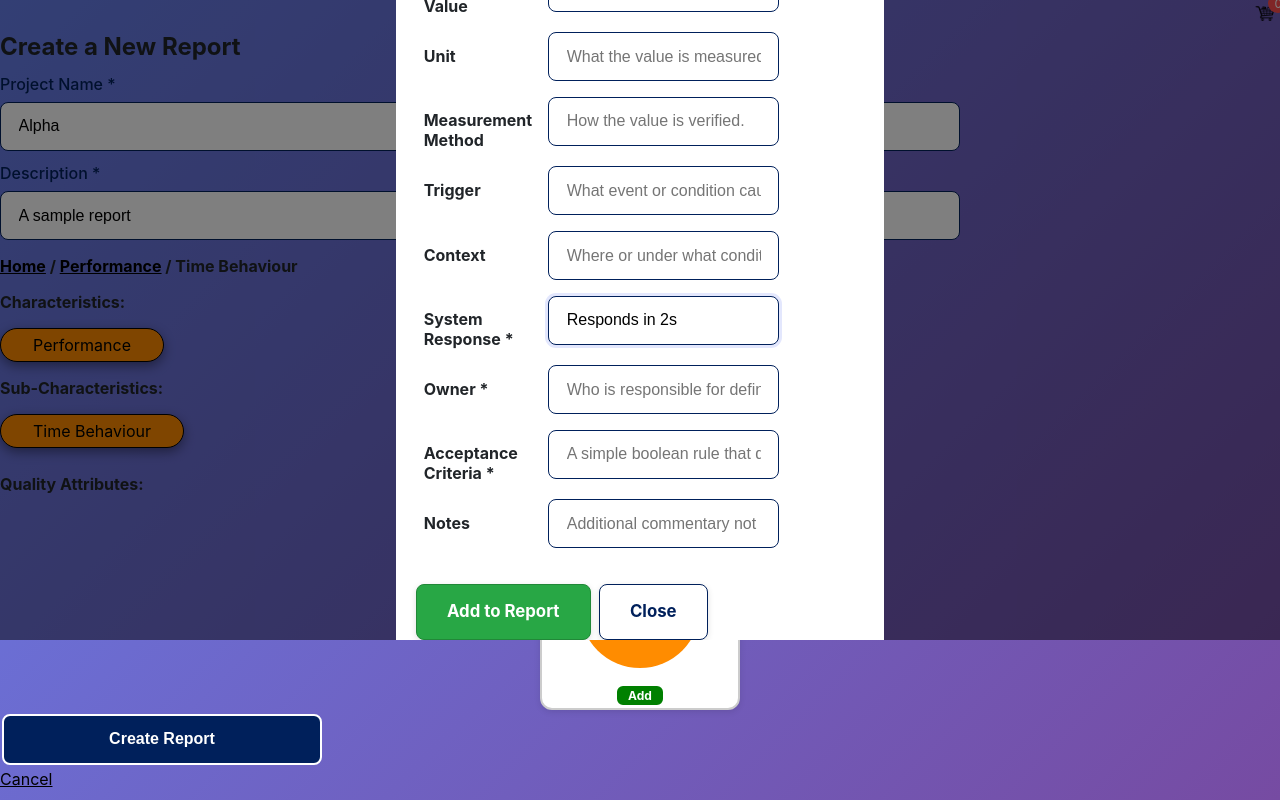
Test: ReportForm › missing mandatory field:  Owner
Earlier steps of the test are not shown.
(page scrolled)
Type "p95 under 2s" into the field labelled "Acceptance Criteria *". click: [664, 454]
box: left=548, top=430, right=779, bottom=479
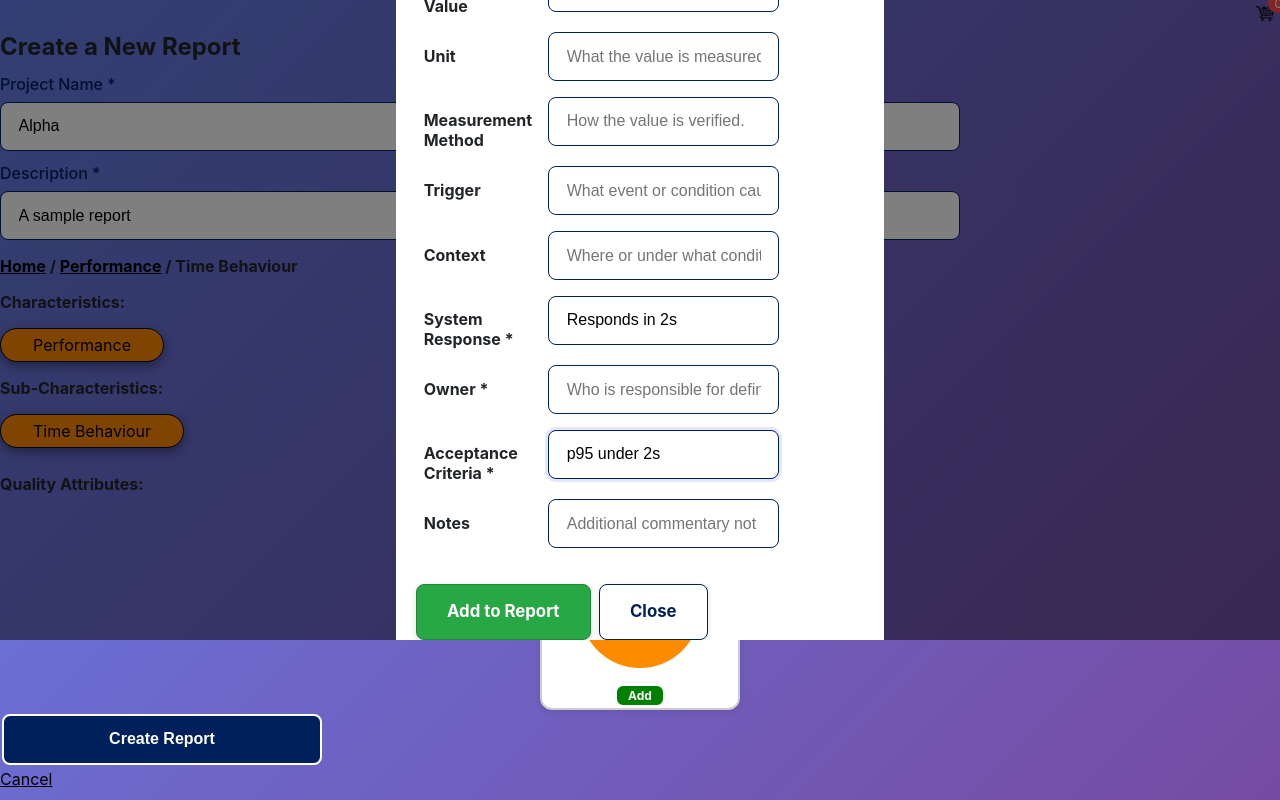
Click the button "Add to Report". click: [503, 612]
box: left=416, top=584, right=591, bottom=640
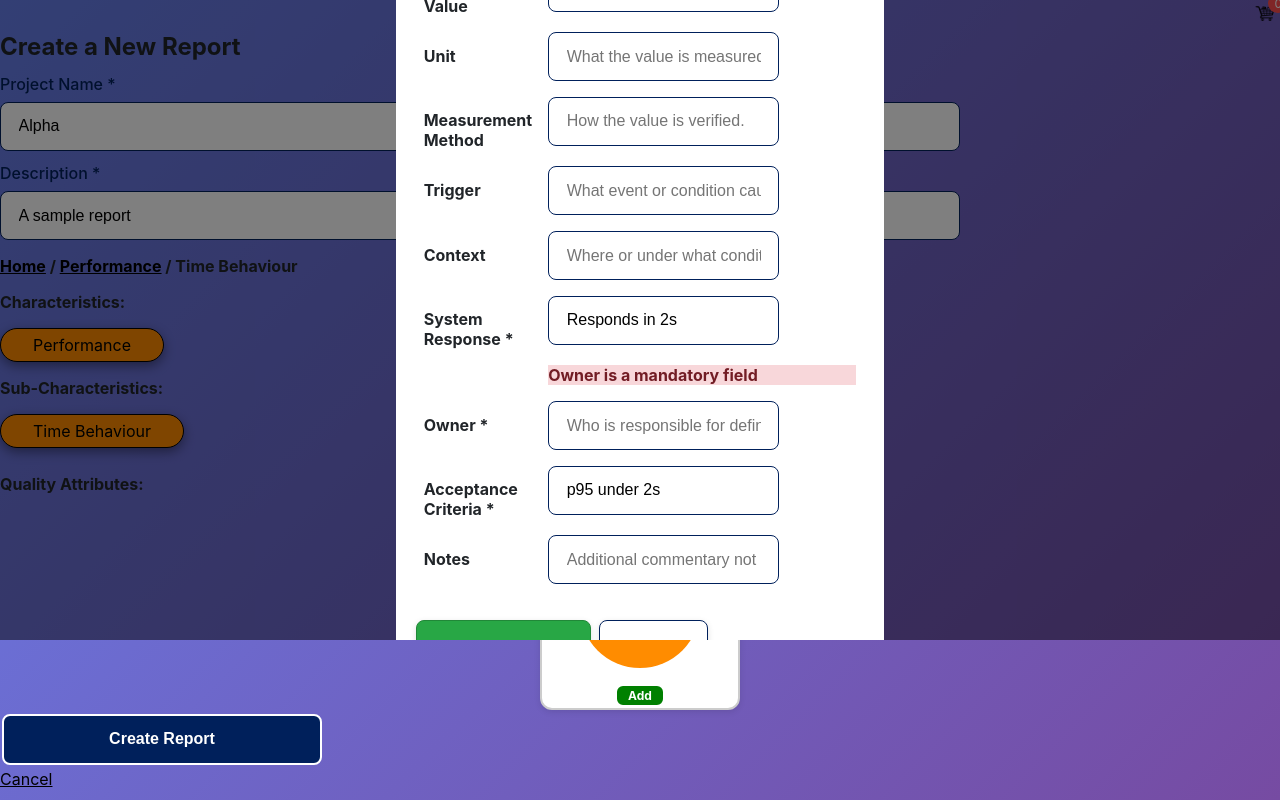
Expected: the text "Owner is a mandatory field" is shown, left=548, top=365, right=856, bottom=385
